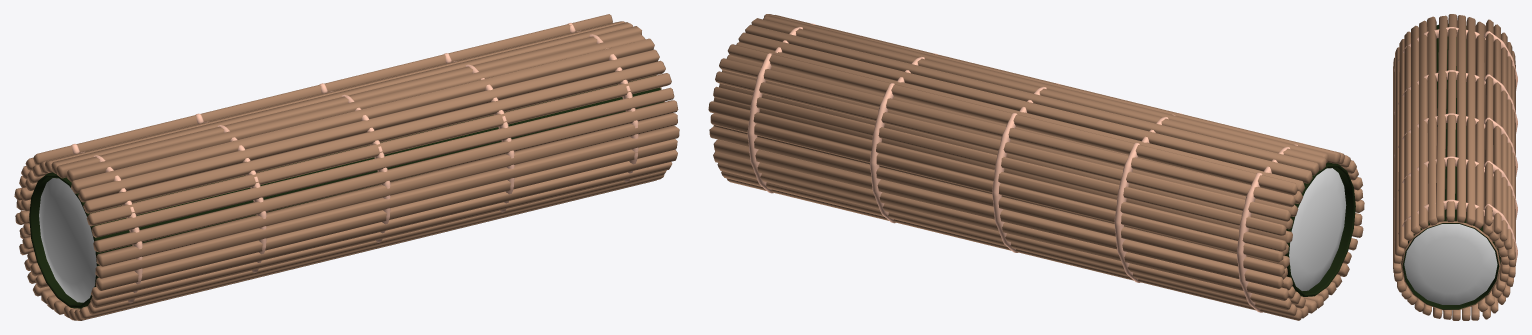
File: bal_rolled.fbx
The picture shows the model from 3 angles, left to right: view 1: azimuth 30°, elevation 25°; view 2: azimuth 150°, elevation 25°; view 3: azimuth 270°, elevation 25°; orthographic projection. The views are drawn at different scales.
Visible parts, largest first — view 1: Gimbap_simple.002; view 2: Gimbap_simple.002; view 3: Gimbap_simple.002.
Part boxes in pixels (bbox=[...]): Gimbap_simple.002: bbox=[14, 14, 679, 320]; Gimbap_simple.002: bbox=[708, 14, 1364, 320]; Gimbap_simple.002: bbox=[1393, 14, 1517, 320].
Bounding box in the file's own units: 652 × 160 × 169.
